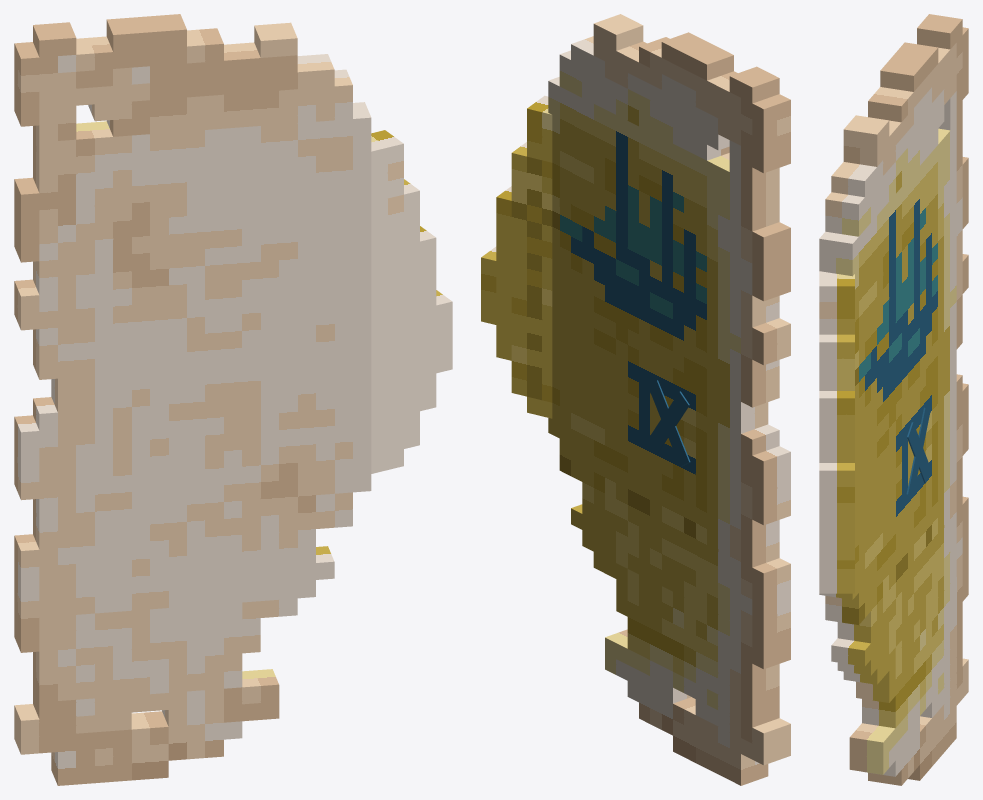
Rendered from lost_page_03I_IX.gltf.
The picture shows the model from 3 angles, left to right: view 1: azimuth 30°, elevation 25°; view 2: azimuth 150°, elevation 25°; view 3: azimuth 270°, elevation 25°; orthographic projection. The views are drawn at different scales.
Parts seen in each view (by area): view 1: MapLeft$$(4)-Local, MapCenter$$(4)-Local; view 2: MapLeft$$(4)-Local, MapCenter$$(4)-Local, V01-Local, V02-Local; view 3: MapLeft$$(4)-Local, MapCenter$$(4)-Local, V01-Local, V02-Local.
Part boxes in pixels (box(x1,y1,x2,y2)): MapLeft$$(4)-Local: box(14, 14, 371, 785); MapCenter$$(4)-Local: box(371, 130, 452, 473); MapLeft$$(4)-Local: box(548, 14, 790, 785); MapCenter$$(4)-Local: box(481, 95, 552, 418); V01-Local: box(647, 380, 690, 466); V02-Local: box(647, 391, 689, 454); MapLeft$$(4)-Local: box(819, 14, 968, 785); MapCenter$$(4)-Local: box(819, 271, 854, 593); V01-Local: box(907, 422, 930, 483); V02-Local: box(906, 407, 930, 497).
Size of the model in its own units: 22.85 by 44 by 8.38.
Materials: 4 (4 with a texture image).
